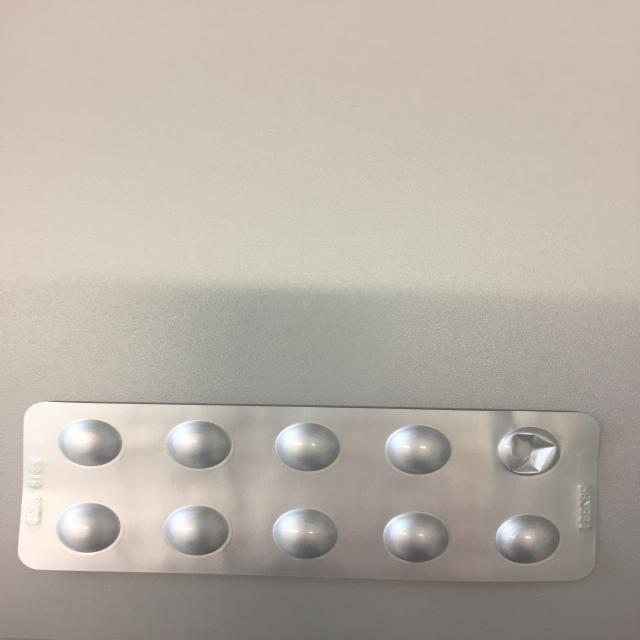Empty: (489, 423, 566, 481)
Pill: (376, 508, 454, 566), (270, 504, 342, 563), (49, 500, 126, 555), (53, 414, 127, 470), (158, 416, 232, 472), (382, 423, 455, 478), (274, 418, 344, 475), (160, 501, 230, 558), (493, 509, 561, 566)
